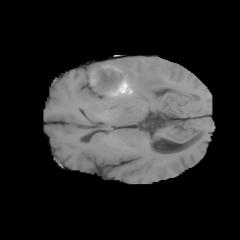glioma: (87, 63, 167, 110)
